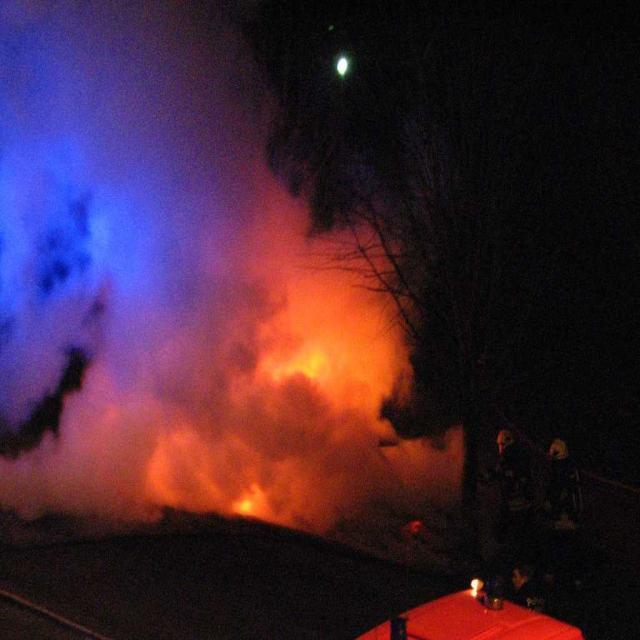Fire: (277, 328, 345, 396), (230, 478, 276, 528)
Smoke: (25, 134, 249, 346)
